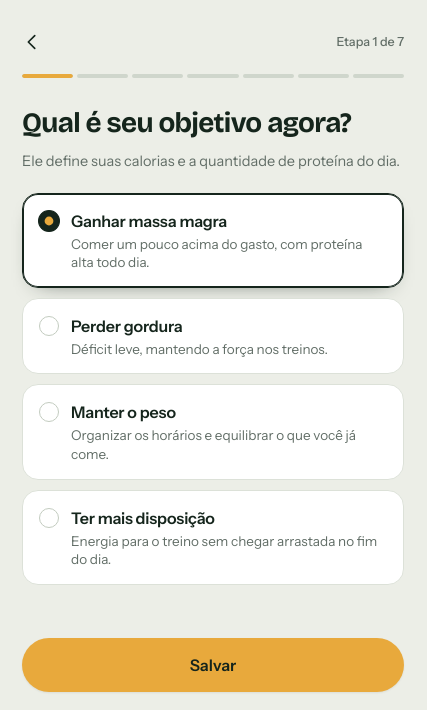
Test: Etapa Objetivo (S02) › no modo edição salva, avisa e volta ao perfil
Expected: the radio button labelled "Ganhar massa magra" is shown, [22,193,404,288]
Click the button "Salvar": (213, 665) [22,638,404,692]
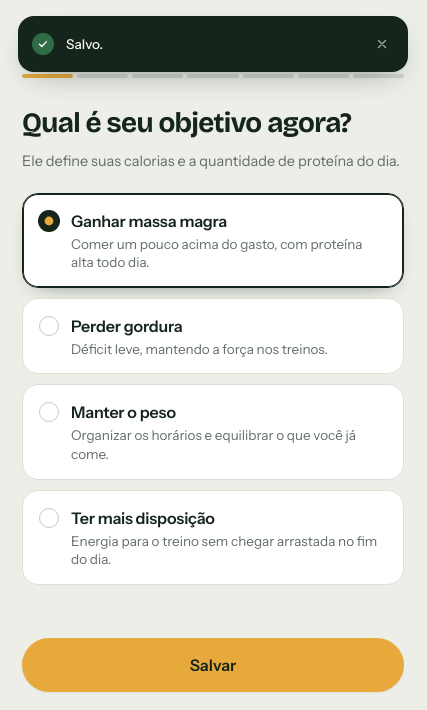
Expected: the text "Salvo." is shown, [66,36,103,52]
